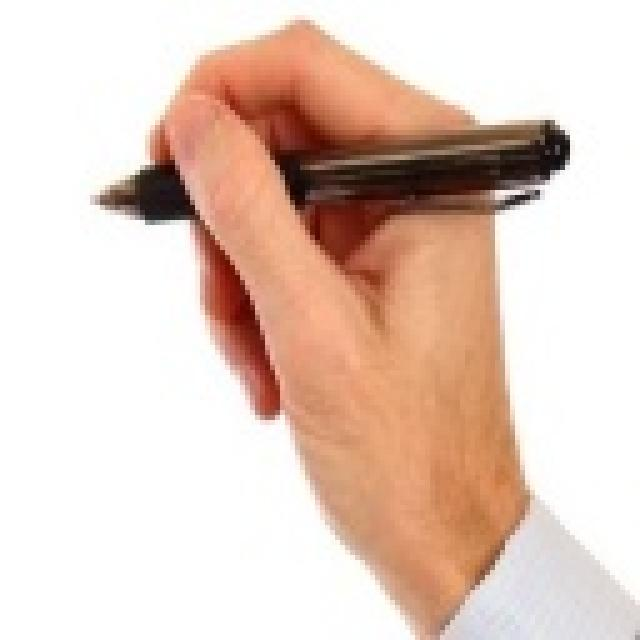pen: (86, 122, 580, 223)
